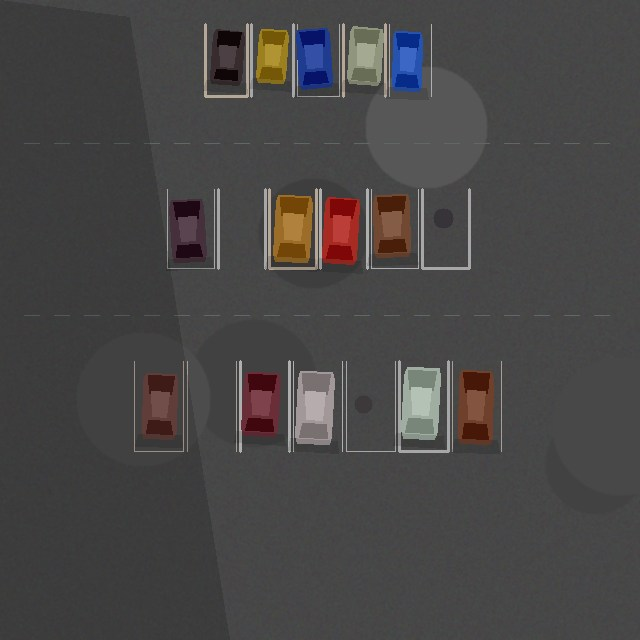space-empty: (187, 361, 236, 451), (346, 361, 395, 451), (218, 189, 265, 268), (422, 189, 469, 268)
space-occupied: (134, 361, 183, 451), (240, 361, 289, 451), (293, 361, 342, 451), (399, 361, 448, 451), (452, 361, 501, 451), (167, 189, 214, 268), (269, 189, 316, 268), (320, 189, 367, 268), (371, 189, 418, 268), (205, 24, 247, 96), (251, 24, 293, 96), (297, 24, 339, 96), (343, 24, 385, 96), (389, 24, 431, 96)
